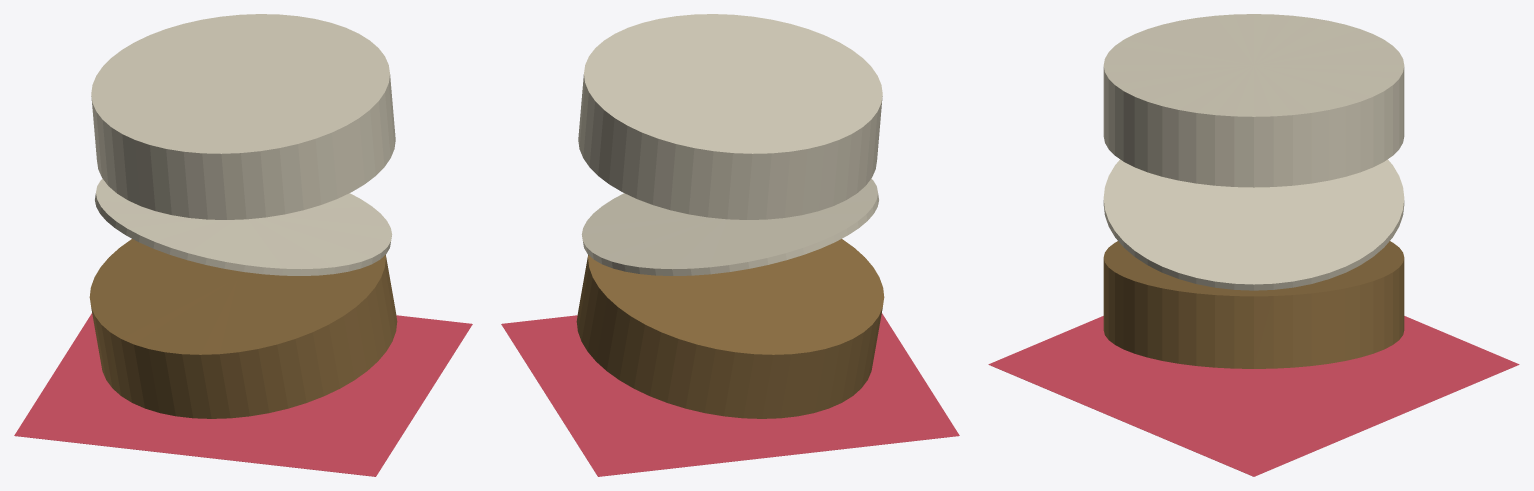
The model's file is CVV.glb.
3 views of the same model, side by side, from view 1: azimuth 30°, elevation 25°; view 2: azimuth 150°, elevation 25°; view 3: azimuth 270°, elevation 25° (orthographic).
Visible parts, largest first — view 1: Mesh_Mesh_head_geo.001_lambert2SG.001; view 2: Mesh_Mesh_head_geo.001_lambert2SG.001; view 3: Mesh_Mesh_head_geo.001_lambert2SG.001.
Boxes of the visible parts, bbox=[...] form: Mesh_Mesh_head_geo.001_lambert2SG.001: bbox=[14, 14, 472, 476]; Mesh_Mesh_head_geo.001_lambert2SG.001: bbox=[501, 14, 959, 476]; Mesh_Mesh_head_geo.001_lambert2SG.001: bbox=[988, 14, 1519, 476].
Bounding box in the file's own units: 0.0354 × 0.0227 × 0.0354.
